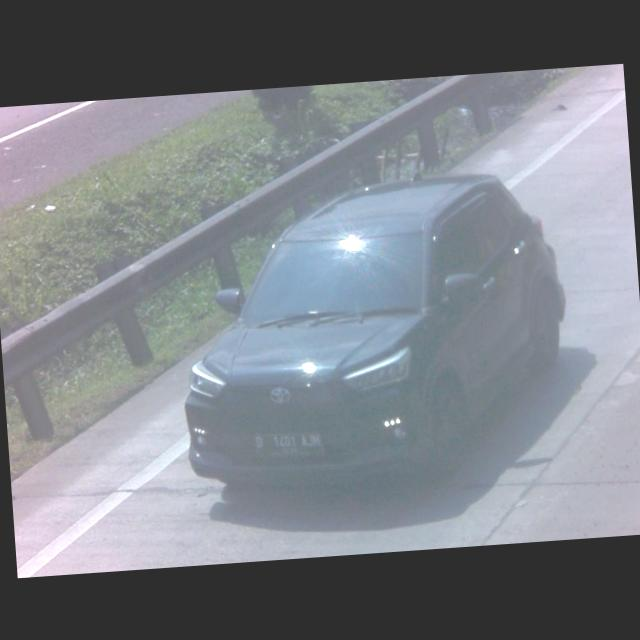plate: (251, 427, 324, 460)
